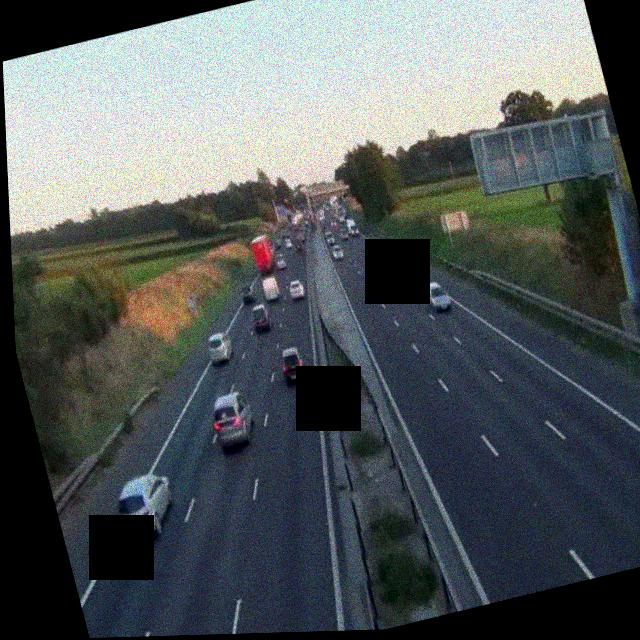car: (109, 469, 180, 543), (204, 387, 258, 451), (276, 344, 308, 386), (204, 331, 235, 365), (422, 277, 450, 311), (375, 272, 400, 302), (248, 305, 272, 334), (260, 276, 281, 301), (285, 277, 305, 303), (238, 282, 256, 304), (330, 243, 345, 261), (367, 238, 382, 256), (275, 253, 287, 270), (324, 231, 335, 245), (293, 240, 304, 253)
truck: (248, 231, 276, 273), (343, 215, 358, 237), (291, 208, 306, 228)
